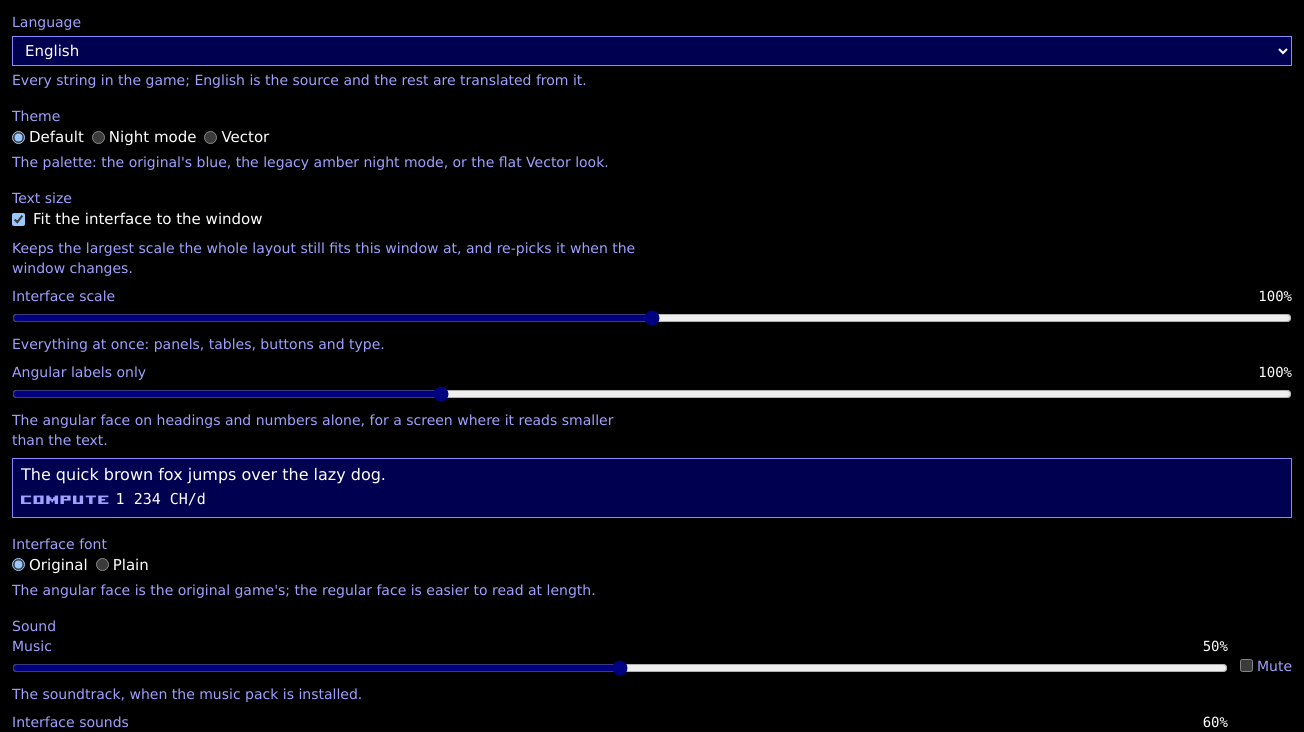
Scenario: the scale setting › offers auto and turns it off when the slider is moved
The image size is (1304, 732).
Expected: the checkbox with test id "ui-scale-auto" is checked, x1=12 y1=212 x2=25 y2=226
Set the slider labelled "Interface scale 100%" to "90" at (441, 318), box x1=12 y1=310 x2=1292 y2=326
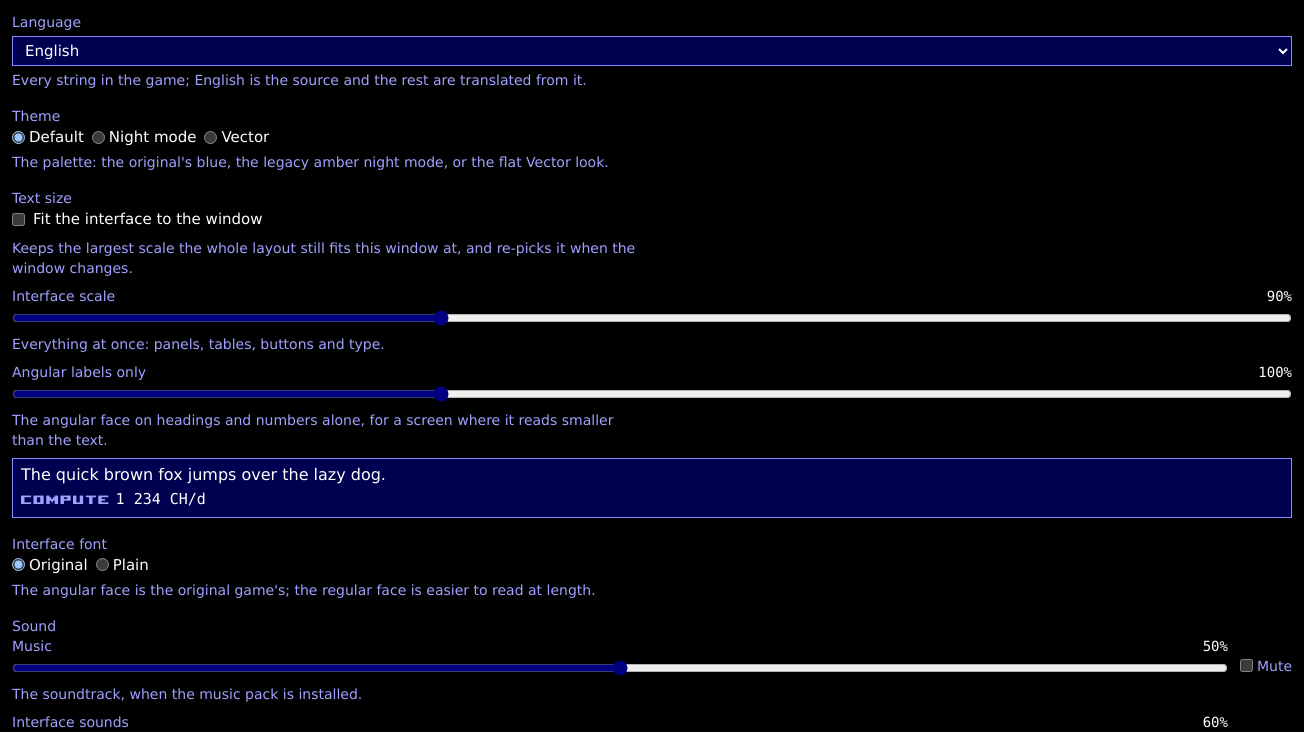
Expected: the checkbox with test id "ui-scale-auto" is not checked, x1=12 y1=212 x2=25 y2=226
